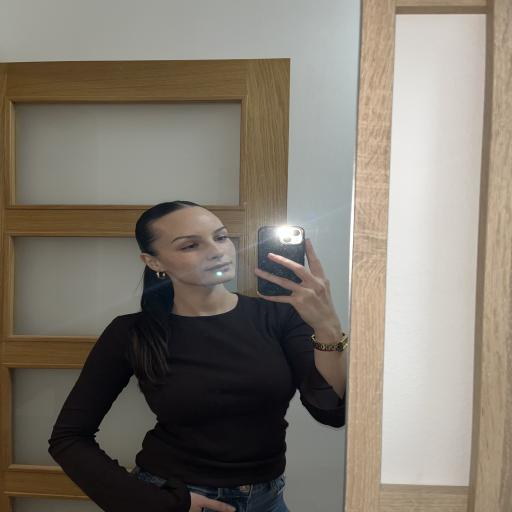marija: (152, 204, 236, 286)
